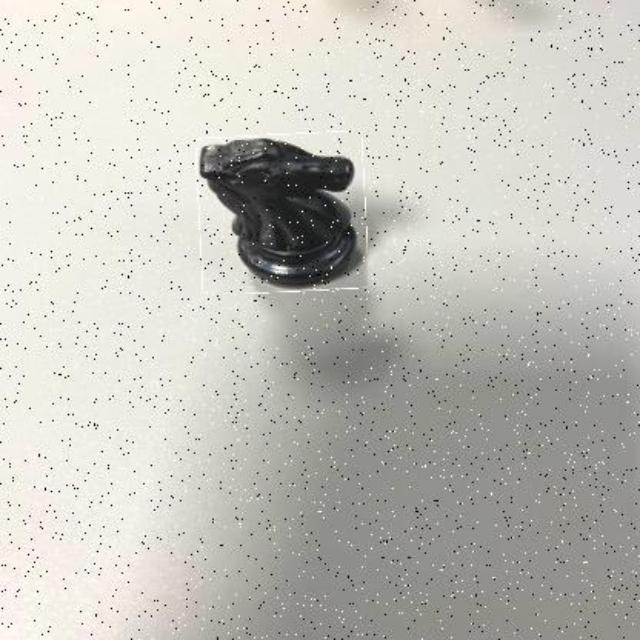black-knight: (198, 132, 368, 293)
